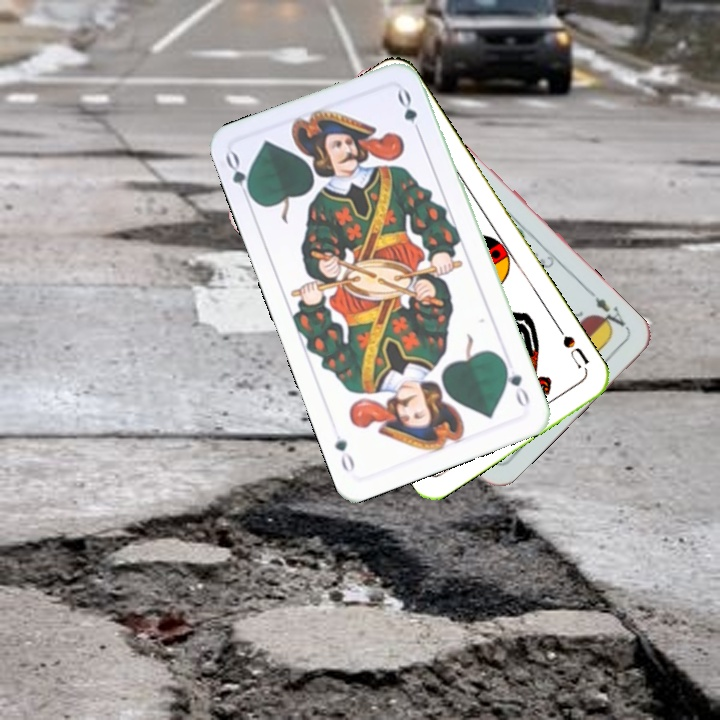EA: (584, 286, 631, 336)
GO: (221, 148, 257, 206), (498, 356, 532, 410)
SU: (553, 322, 592, 375)
